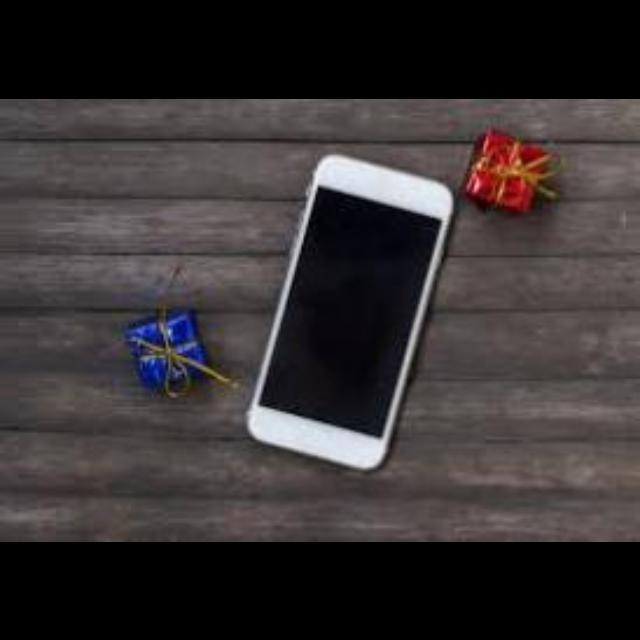phone: (239, 141, 458, 489)
